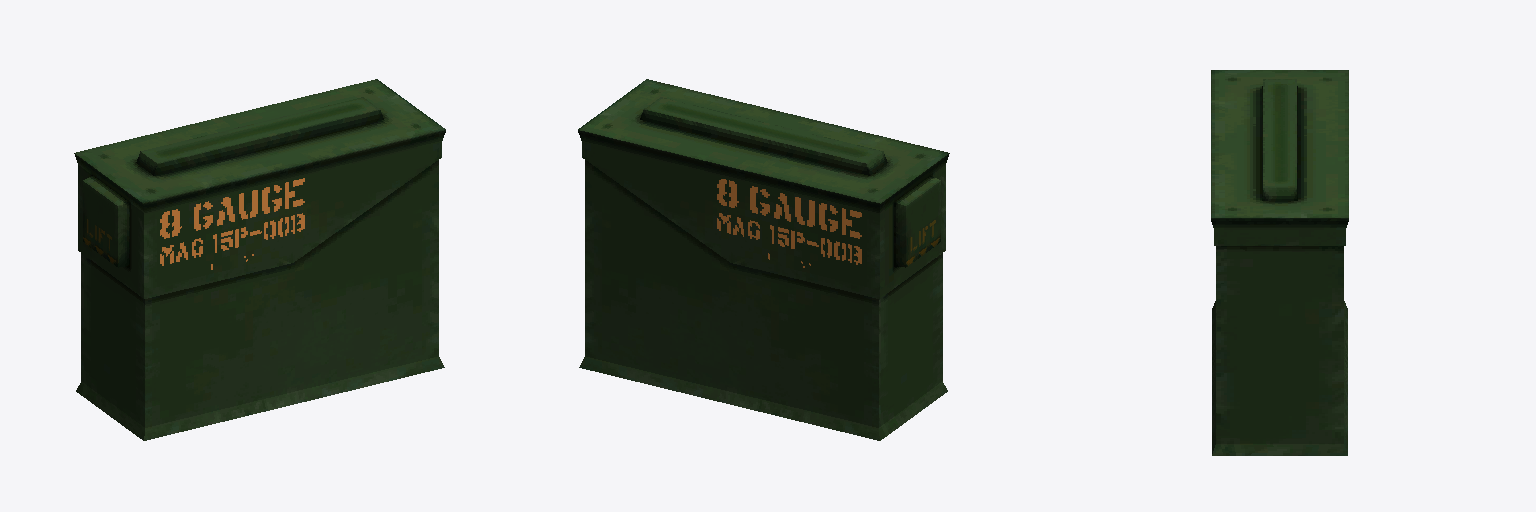
3 views of the same model, side by side, from view 1: azimuth 30°, elevation 25°; view 2: azimuth 150°, elevation 25°; view 3: azimuth 270°, elevation 25° (orthographic).
Parts seen in each view (by area): view 1: __unnamed___base; view 2: __unnamed___base; view 3: __unnamed___base.
Boxes of the visible parts, <box> form: __unnamed___base: <box>74,79,445,440</box>; __unnamed___base: <box>578,79,949,440</box>; __unnamed___base: <box>1211,70,1348,455</box>.
Bounding box in the file's own units: 13.04 × 9.96 × 5.03.
1 materials, 1 textured.